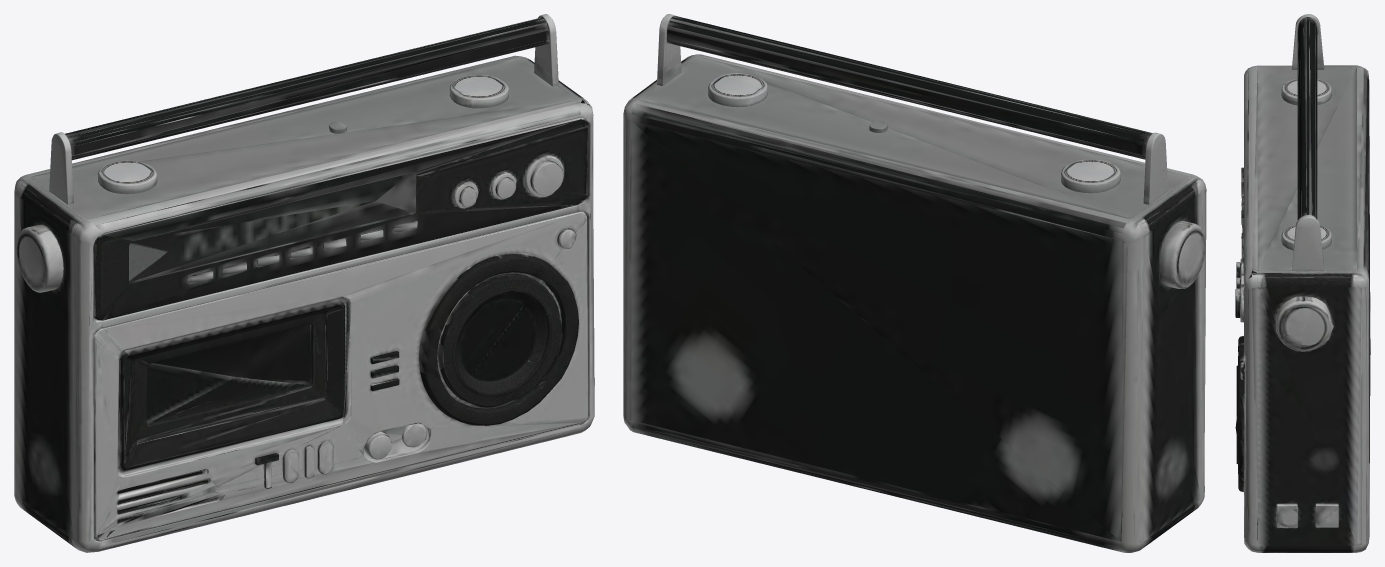
The model's file is cassette_recorder.glb.
The picture shows the model from 3 angles, left to right: view 1: azimuth 30°, elevation 25°; view 2: azimuth 150°, elevation 25°; view 3: azimuth 270°, elevation 25°; orthographic projection. The views are drawn at different scales.
Bounding box in the file's own units: 0.34 × 0.2375 × 0.0856.
Materials: 1 (1 with a texture image).
